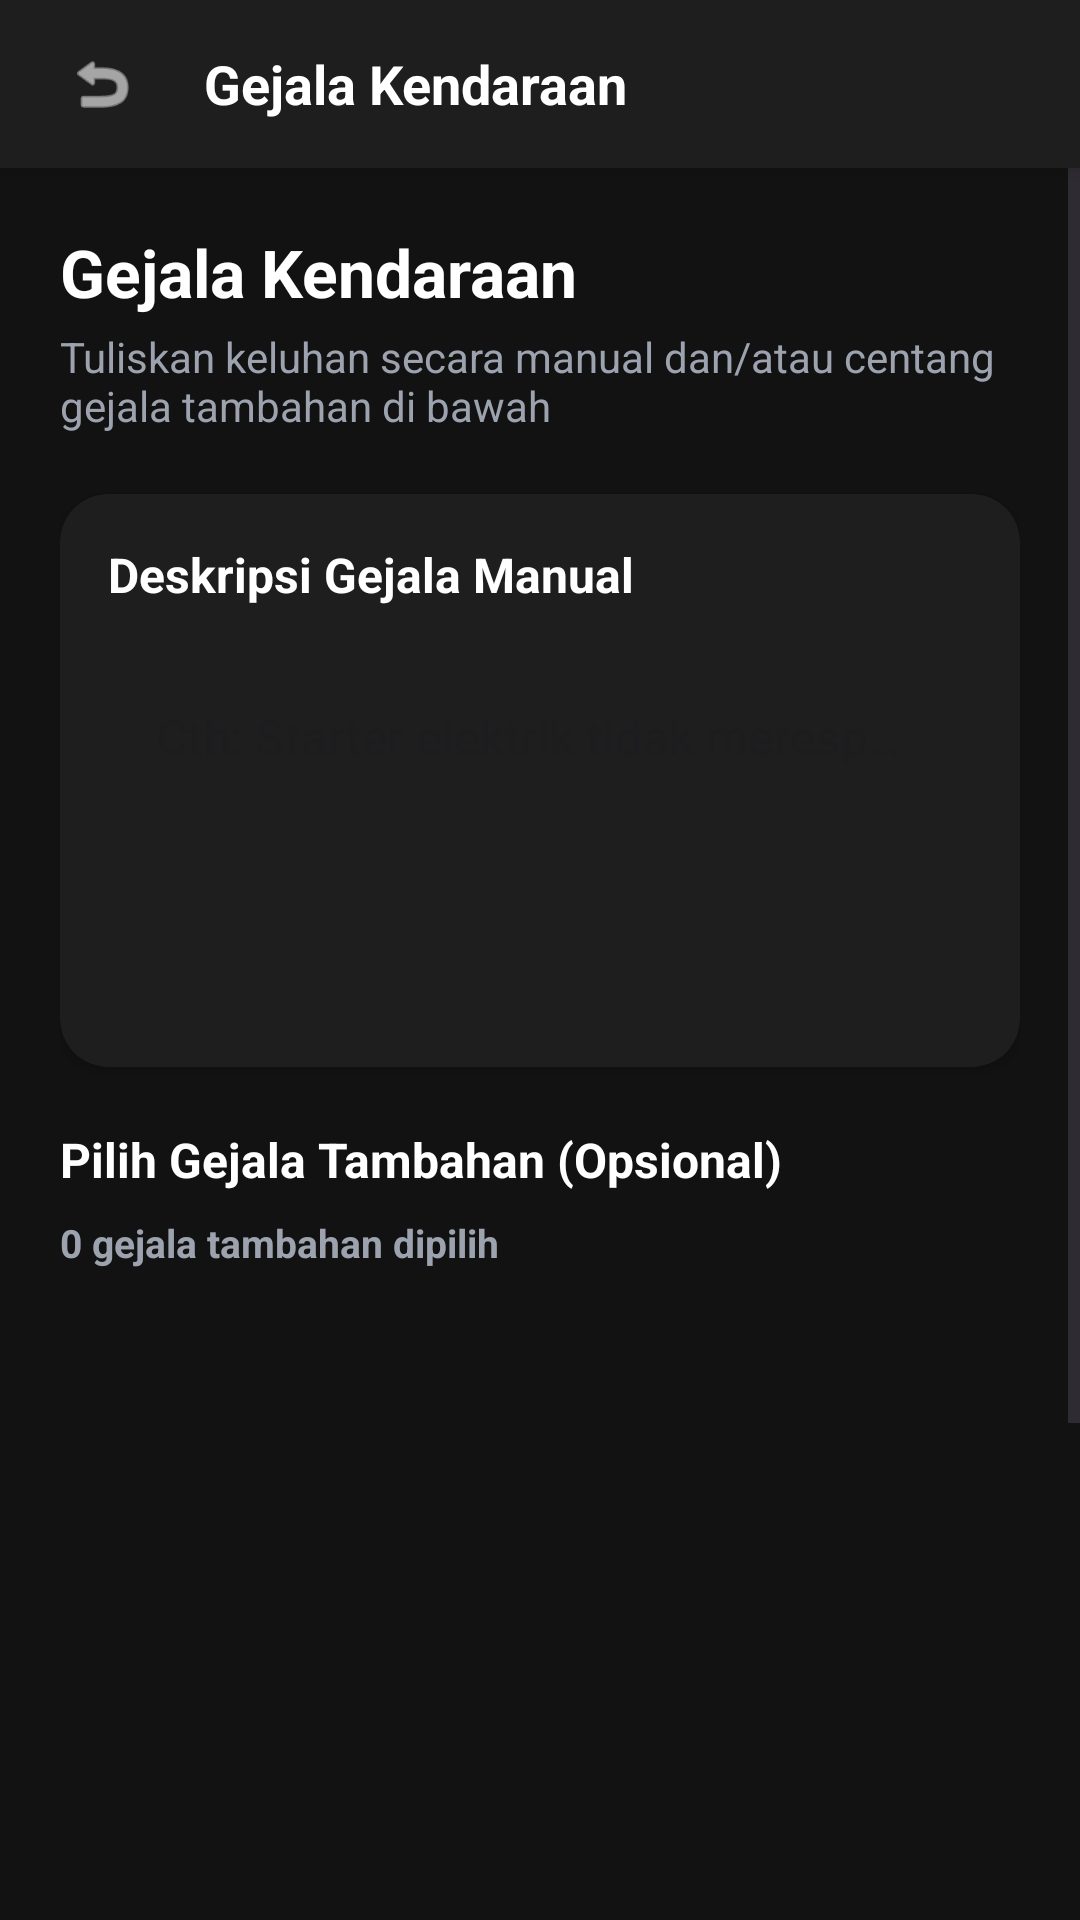

Named icons in this screenshot (1080px×1920px) and their bounding boxes, (x1, y1, x2, y2):
Kembali: (77, 61, 129, 108)
